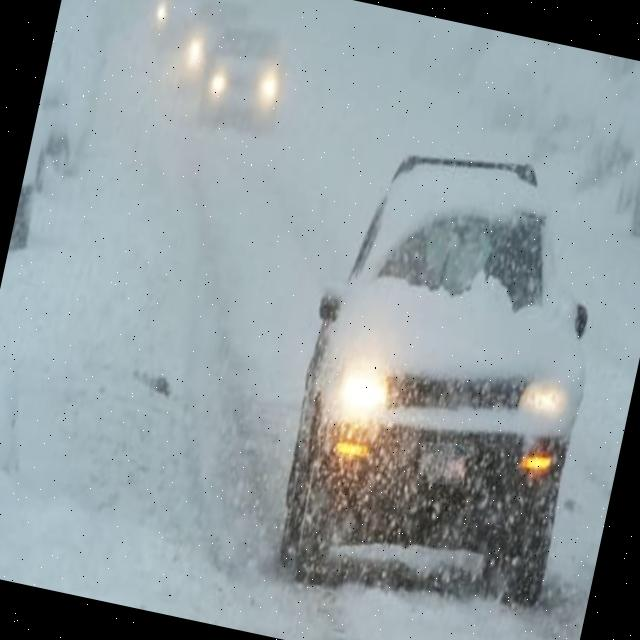car: (262, 130, 627, 624), (194, 23, 290, 144), (176, 0, 251, 91), (146, 0, 201, 43)
